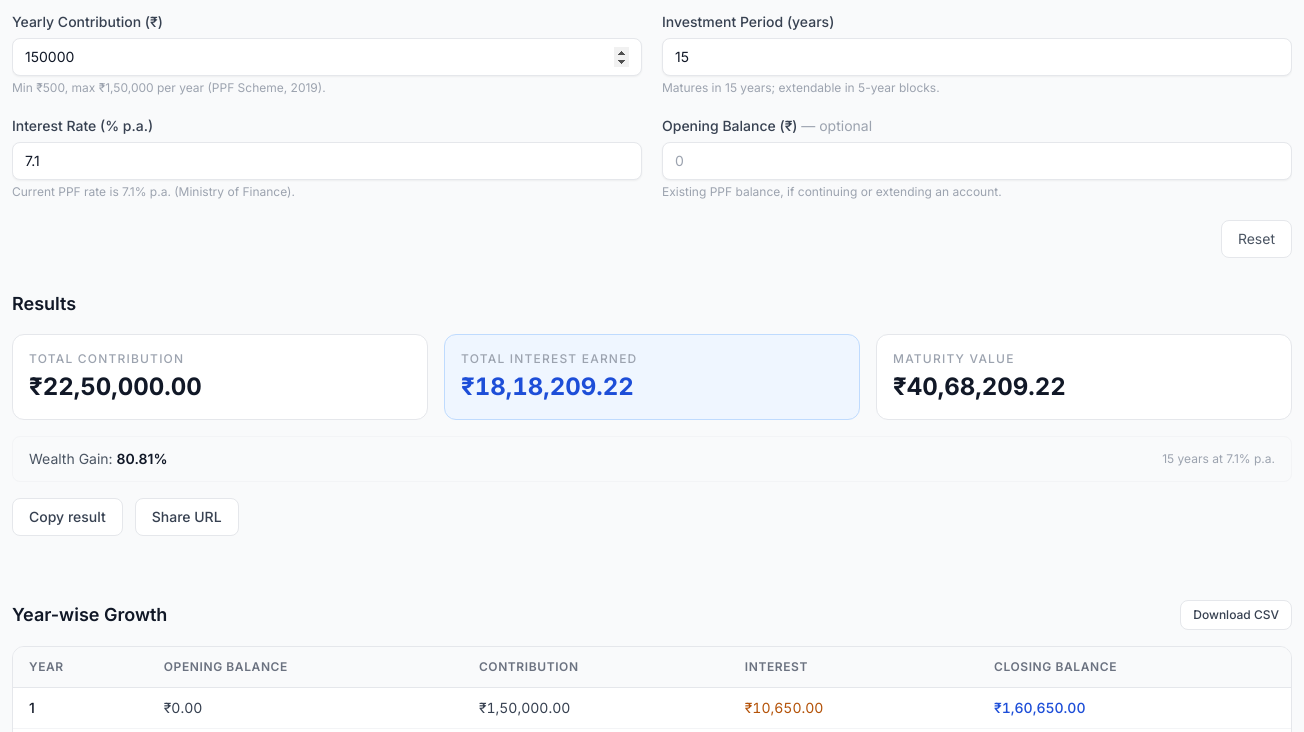
Test case: PPFCalculator › shows error when period below 15 years
The image size is (1304, 732).
Replace the text in the number field labelled "Investment Period (years)" with "10" at (977, 57), box [662,38,1292,76]
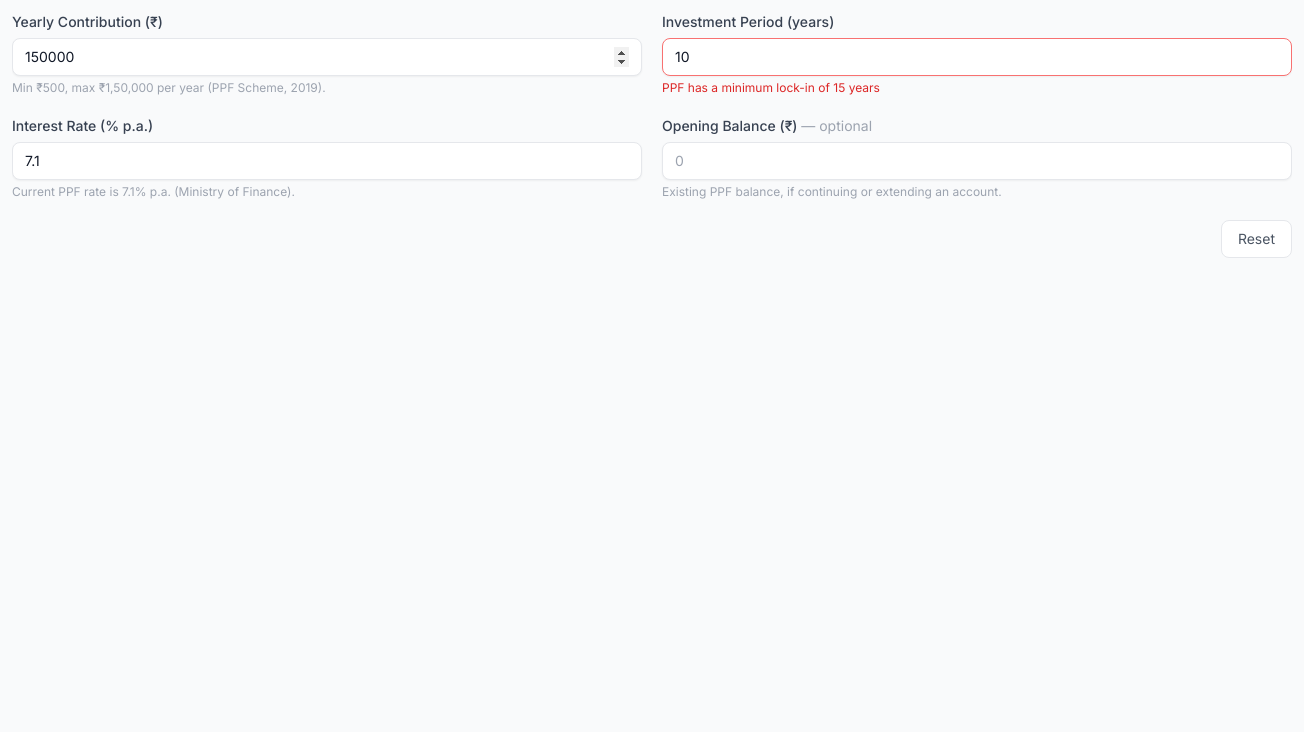
Now the text "PPF has a minimum lock-in of 15 years" is shown, box [662,80,880,95]
